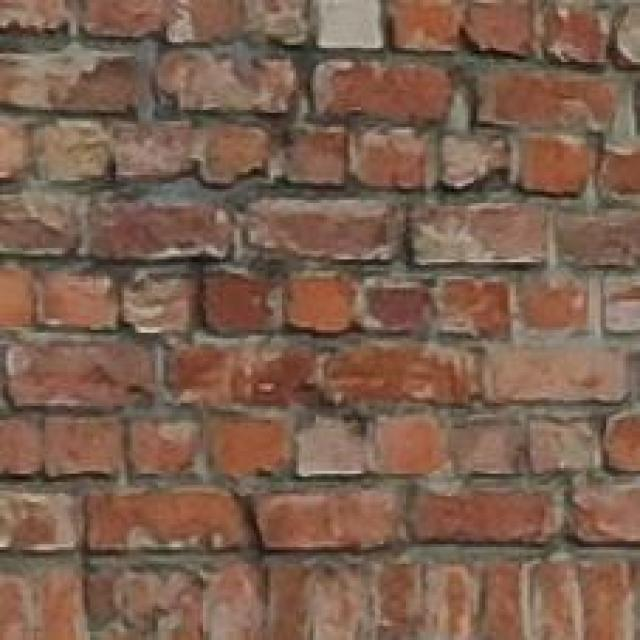Crack: (83, 84, 546, 292)
